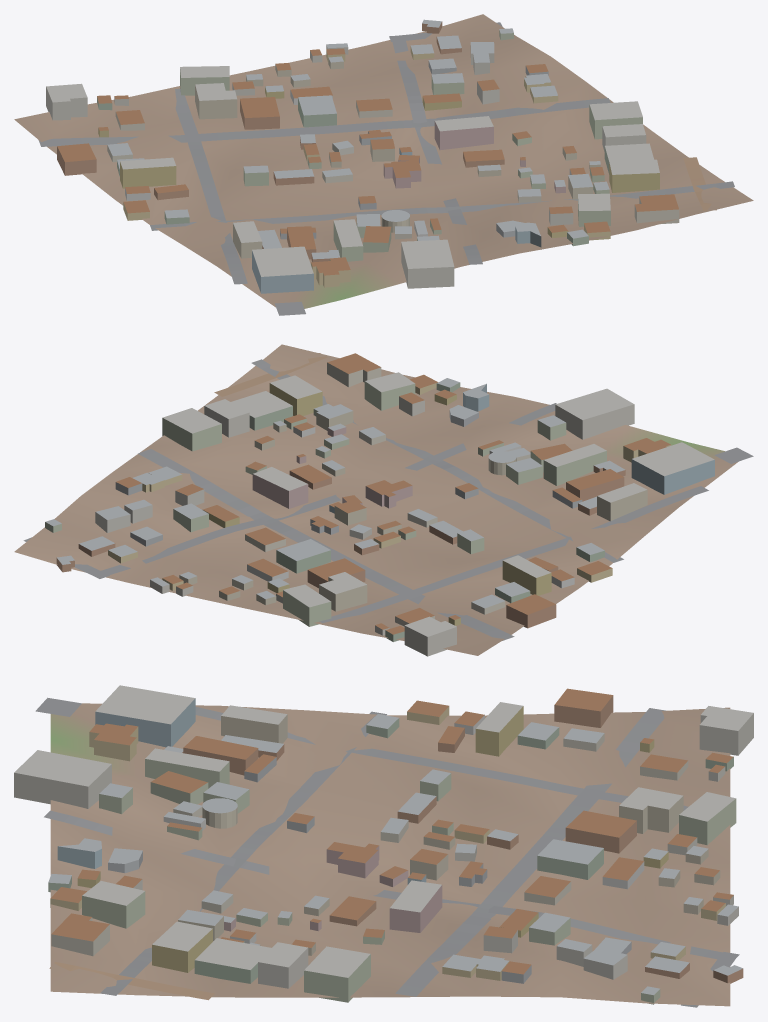
The picture shows the model from 3 angles, top to bottom: view 1: azimuth 30°, elevation 25°; view 2: azimuth 150°, elevation 25°; view 3: azimuth 270°, elevation 25°; orthographic projection. The views are drawn at different scales.
Parts seen in each view (by area): view 1: Lo; view 2: Lo; view 3: Lo.
Boxes of the visible parts, x1,y1,x2,y2 form: Lo: (14,14,753,315); Lo: (14,344,753,656); Lo: (14,685,753,1007).
Size of the model in its own units: 267 by 19.09 by 279.
